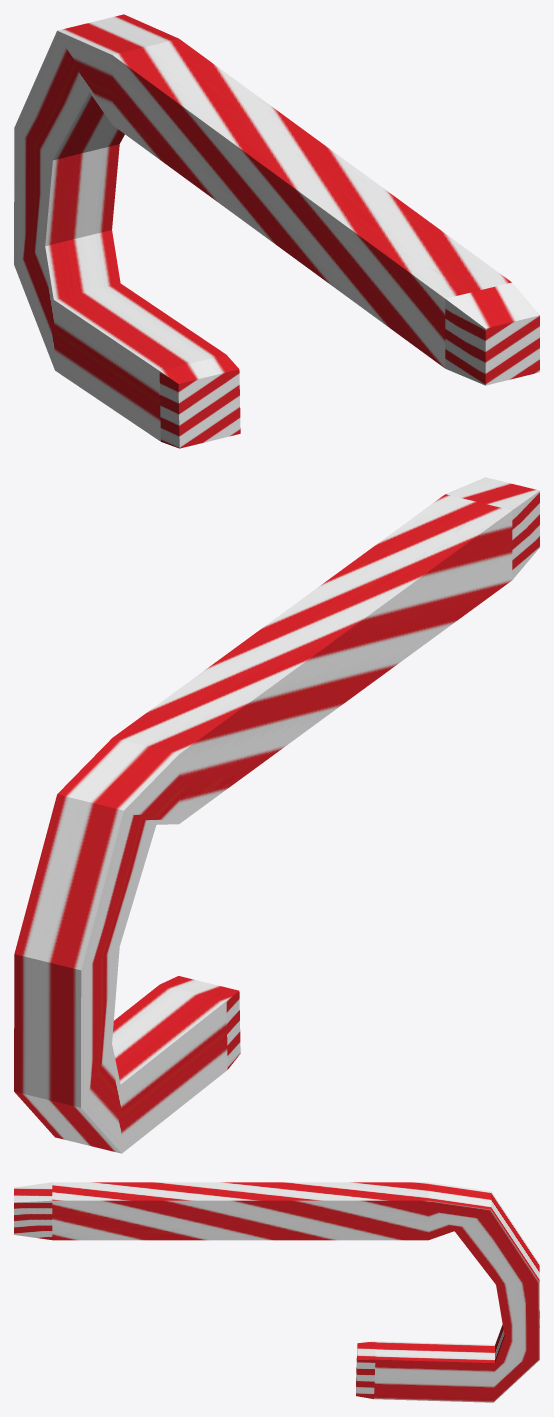
The model's file is item-candy-cane-nose.glb.
The picture shows the model from 3 angles, top to bottom: view 1: azimuth 30°, elevation 25°; view 2: azimuth 150°, elevation 25°; view 3: azimuth 270°, elevation 25°; orthographic projection. The views are drawn at different scales.
Size of the model in its own units: 0.0111 by 0.0566 by 0.1335.
Materials: 1 (1 with a texture image).
